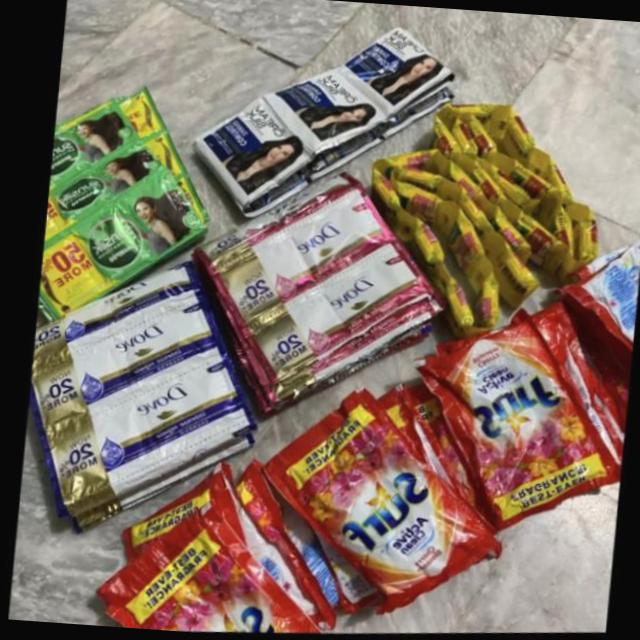goi_nhua_nho: (260, 390, 501, 622), (418, 319, 619, 538), (122, 465, 339, 636), (37, 346, 252, 518), (30, 261, 222, 429), (233, 238, 434, 393), (97, 506, 320, 639), (201, 184, 389, 326), (38, 169, 206, 321), (44, 100, 160, 242), (190, 98, 313, 214), (377, 386, 476, 518), (329, 30, 451, 121), (260, 74, 390, 159), (559, 246, 640, 365), (475, 237, 538, 317), (445, 216, 488, 307), (510, 220, 568, 286), (501, 171, 559, 235), (394, 184, 454, 243), (467, 167, 521, 232), (433, 185, 490, 237), (433, 269, 474, 335), (485, 212, 529, 270), (397, 215, 442, 270), (528, 156, 571, 211), (371, 155, 449, 185), (439, 111, 509, 144), (501, 117, 534, 176), (566, 225, 600, 282), (461, 117, 495, 159), (370, 168, 398, 218), (551, 215, 573, 268), (451, 122, 477, 166), (397, 171, 441, 194), (479, 277, 497, 332)
